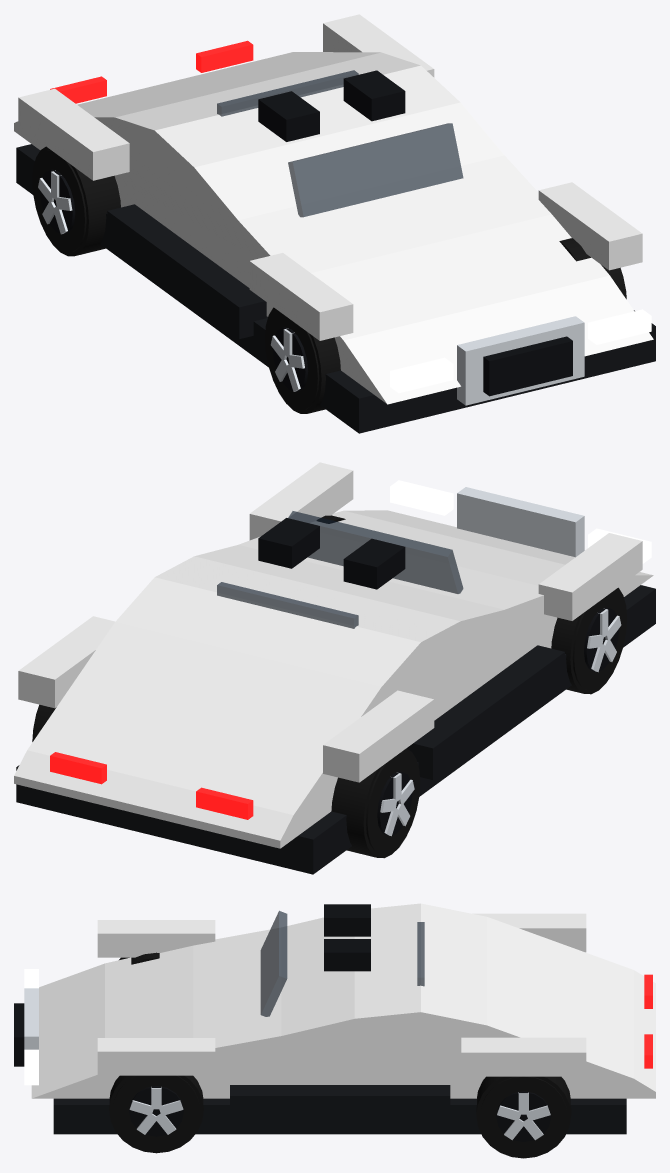
Rendered from baguetti-hellhound.glb.
3 renders of one model, top to bottom at view 1: azimuth 30°, elevation 25°; view 2: azimuth 150°, elevation 25°; view 3: azimuth 270°, elevation 25°, orthographic. The views are drawn at different scales.
Visible parts, largest first — view 1: chassis, glass, wheel-back-left, wheel-front-left, wheel-front-right; view 2: chassis, wheel-back-left, wheel-front-left, glass; view 3: chassis, wheel-back-right, wheel-front-right, glass.
Part boxes in pixels (x1,y1,x2,y2): chassis: (14,14,655,433); glass: (288,123,463,217); wheel-back-left: (32,146,120,256); wheel-front-left: (265,307,340,413); wheel-front-right: (559,238,626,299); chassis: (14,462,655,874); wheel-back-left: (331,748,420,858); wheel-front-left: (551,587,627,694); glass: (288,511,463,593); chassis: (14,903,655,1134); wheel-back-right: (476,1076,571,1158); wheel-front-right: (109,1075,203,1153); glass: (260,911,287,1016).
Bounding box in the file's own units: 2.26 × 1.22 × 4.37.
